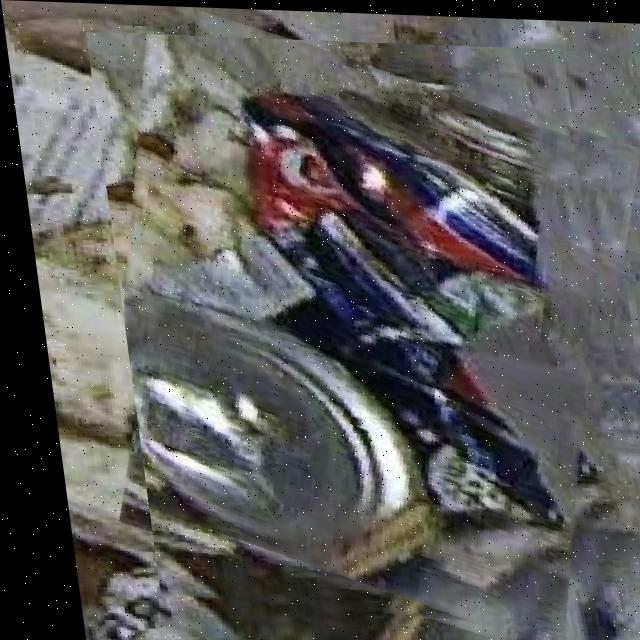can: (84, 31, 640, 634)
